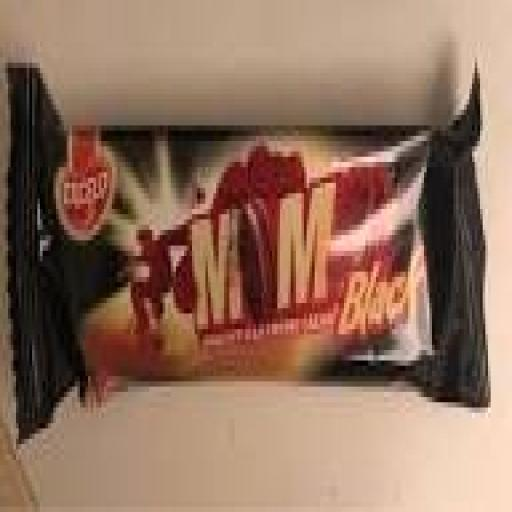MOMO: (10, 27, 490, 460)
